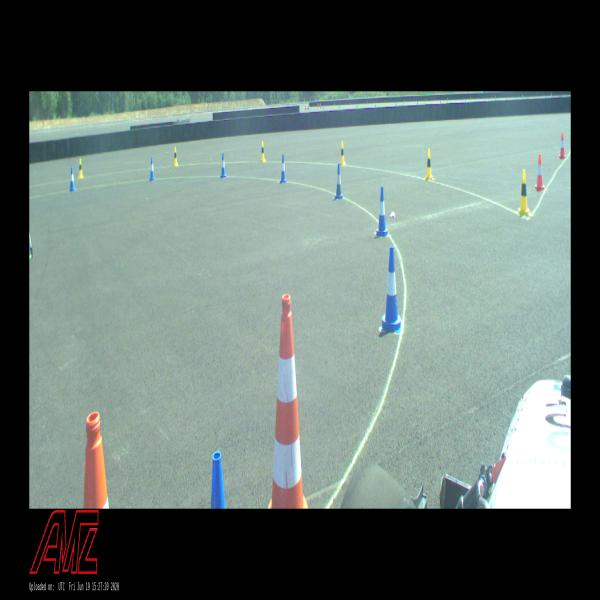blue_cone: (382, 246, 401, 332), (376, 186, 388, 236), (334, 163, 343, 200), (279, 154, 287, 182), (69, 166, 76, 191), (149, 157, 155, 181), (221, 154, 226, 177)
large_orange_cone: (268, 294, 309, 509)
orange_cone: (535, 154, 545, 190), (559, 132, 566, 158)
yellow_cone: (518, 170, 530, 215), (425, 149, 432, 180), (339, 141, 346, 165), (78, 158, 84, 178), (260, 141, 266, 161), (174, 146, 178, 166)
